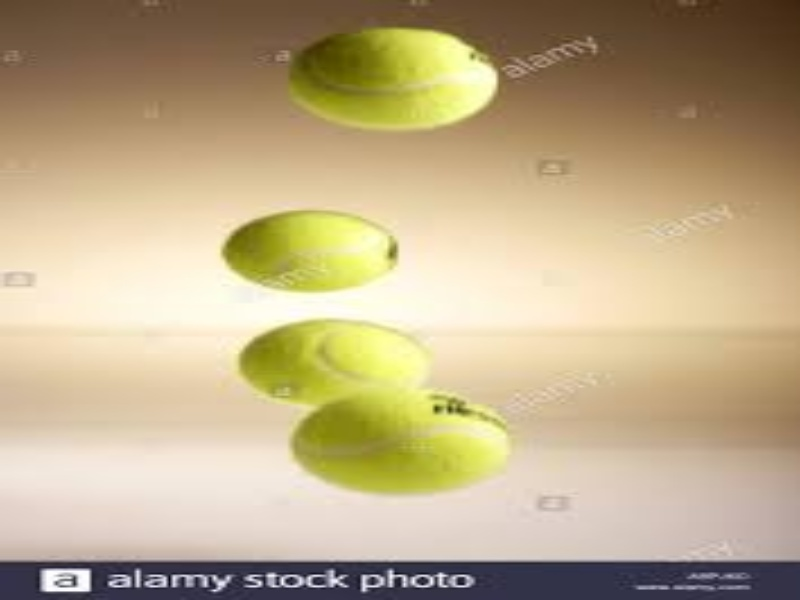tennis ball: (281, 391, 540, 504), (284, 21, 503, 136), (218, 199, 415, 294), (232, 316, 443, 402)
